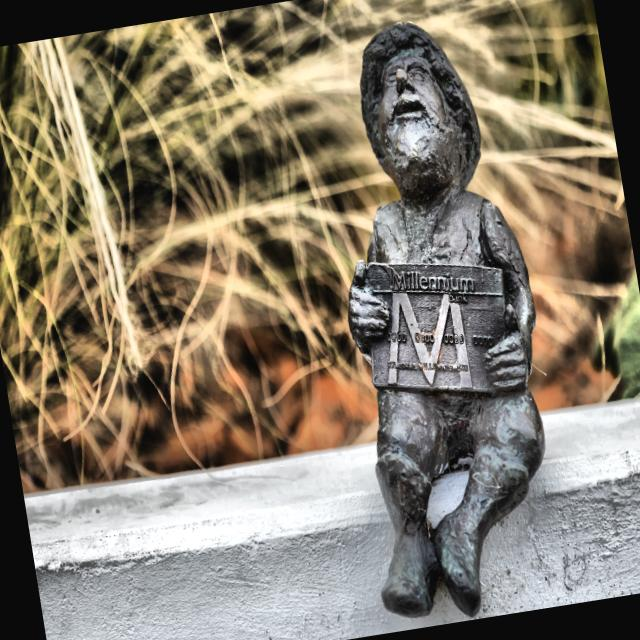Krasnal_Millenniowski: (349, 24, 545, 619)
